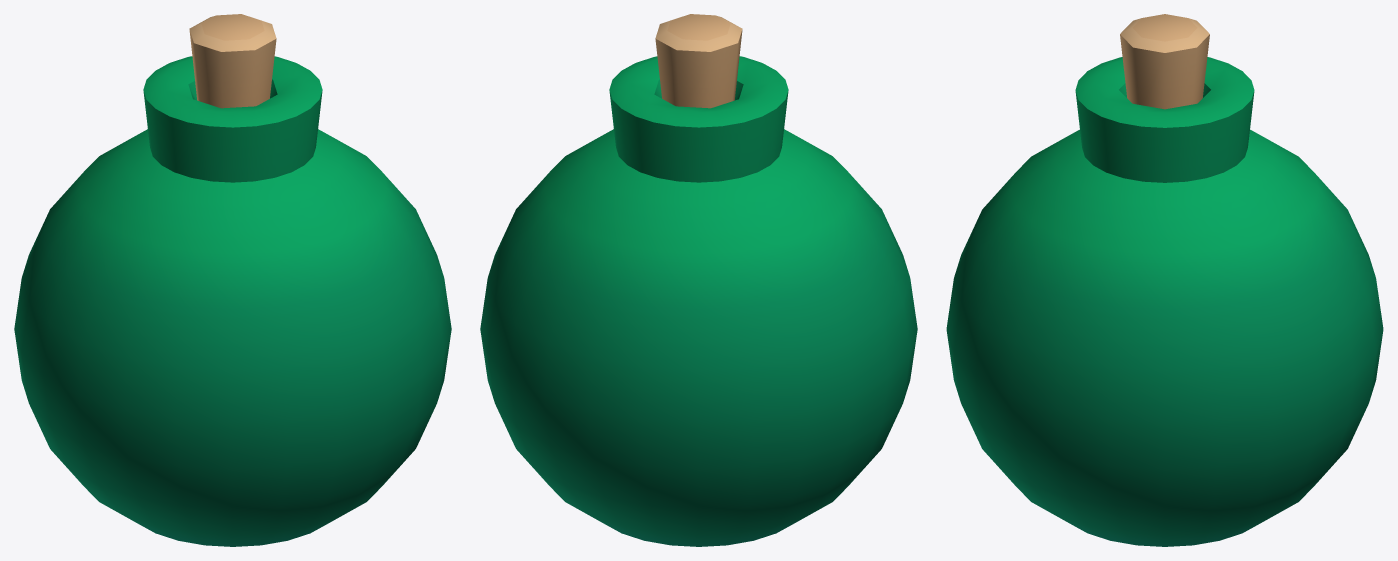
File: bomb_A_green.glb
3 renders of one model, left to right at view 1: azimuth 30°, elevation 25°; view 2: azimuth 150°, elevation 25°; view 3: azimuth 270°, elevation 25°, orthographic.
Visible parts, largest first — view 1: bomb_A_green; view 2: bomb_A_green; view 3: bomb_A_green.
Boxes of the visible parts, x1,y1,x2,y2 form: bomb_A_green: (14, 14, 451, 546); bomb_A_green: (480, 14, 917, 546); bomb_A_green: (946, 14, 1383, 546).
Size of the model in its own units: 0.8 by 1.01 by 0.8.
1 material, 1 textured.
